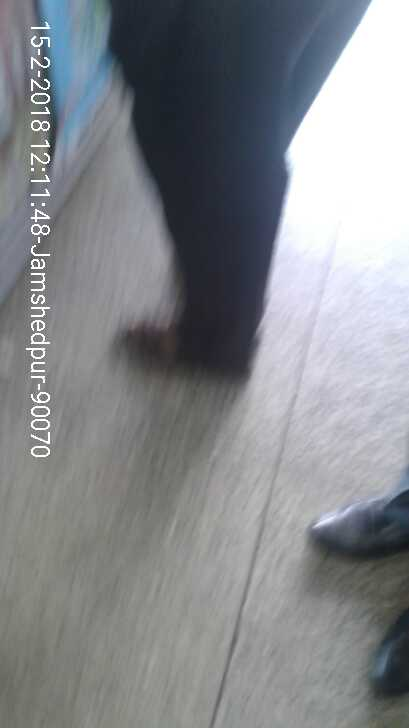reject: (152, 204, 257, 284)
